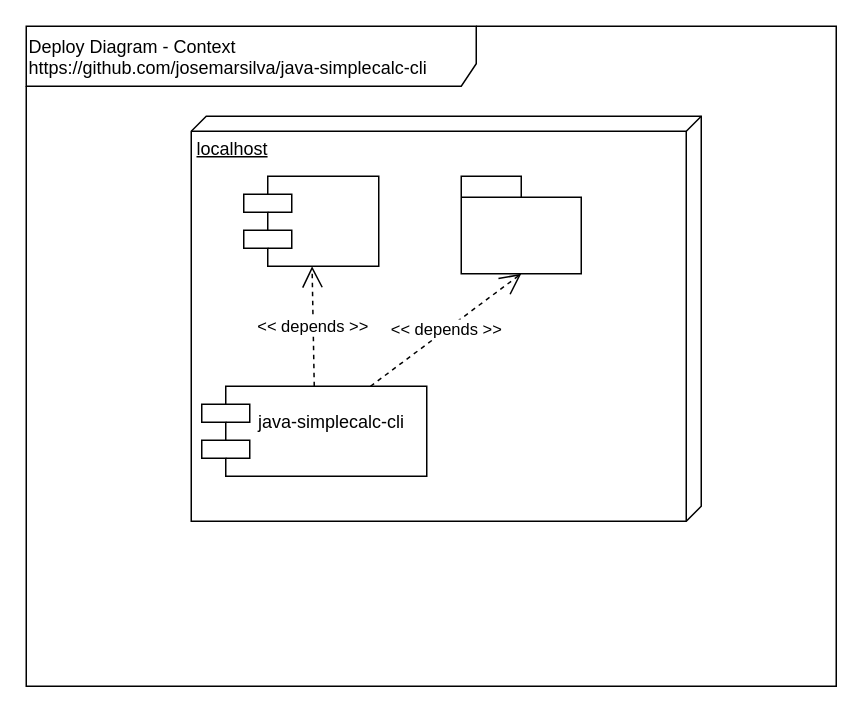
Some shapes in this 863 by 713 pixel diagram are drawn without their labels. Each missing label, with the box of its shape:
apache commons cli-1.4: (460, 175, 581, 274)
Java JRE: (242, 175, 379, 266)
